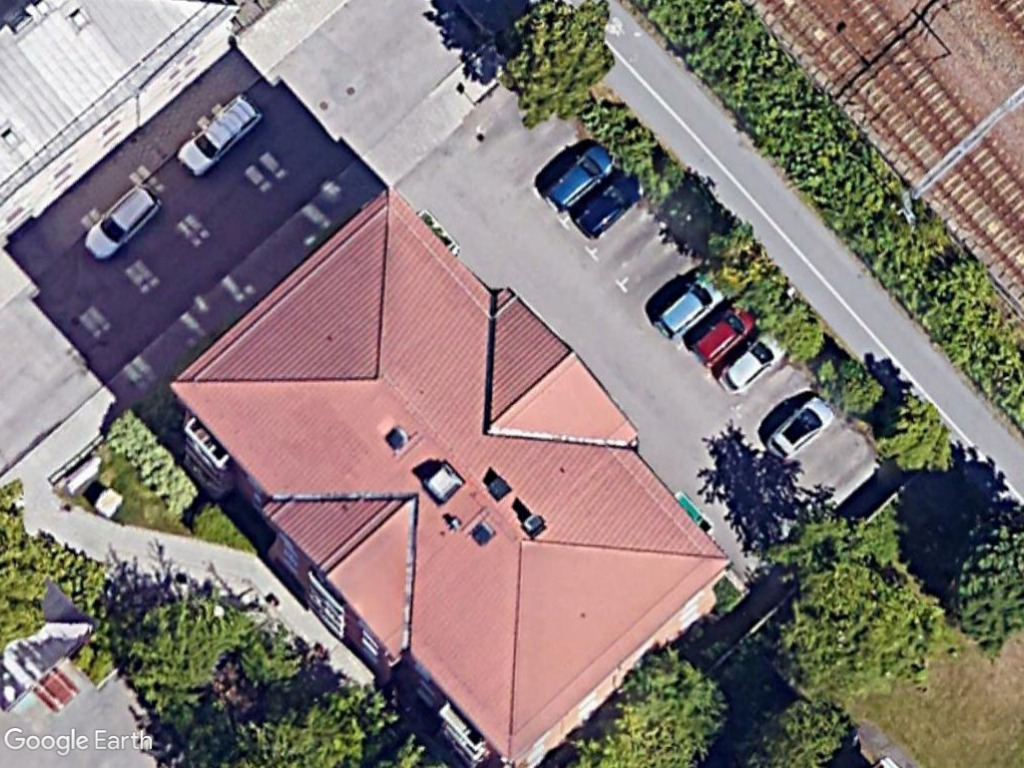car: (175, 90, 263, 183), (82, 180, 164, 261), (651, 268, 728, 342), (544, 138, 618, 214), (571, 167, 645, 241), (763, 395, 837, 464), (688, 302, 760, 370), (714, 332, 786, 397)
